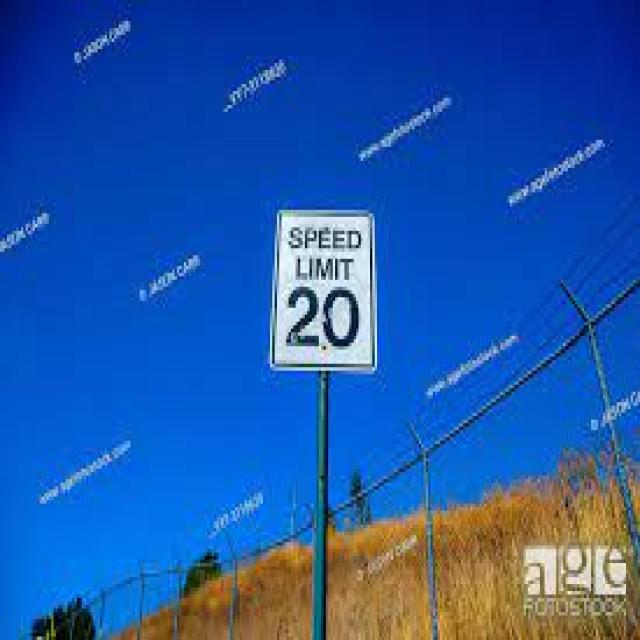speedLimit20: (269, 201, 378, 376)
